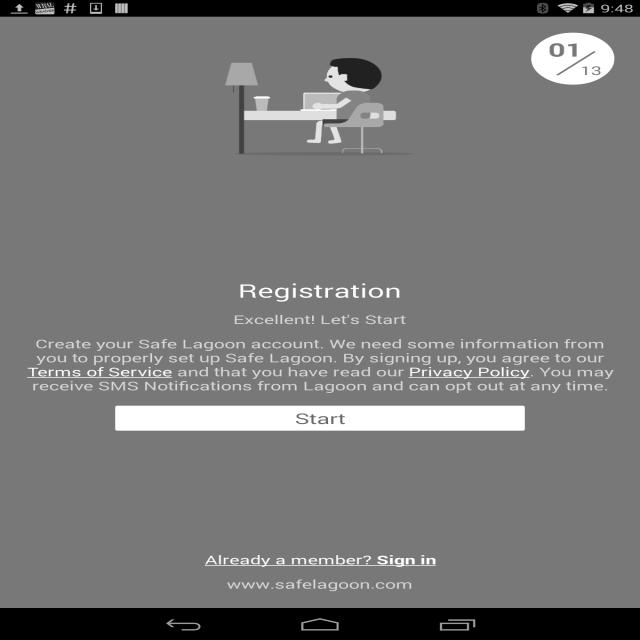Button: (105, 401, 532, 434)
ImageView: (178, 52, 476, 160)
TextView: (24, 333, 619, 397), (192, 551, 448, 592), (228, 310, 413, 330), (238, 282, 398, 300)
